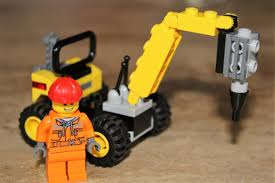excavator: (18, 11, 267, 163)
